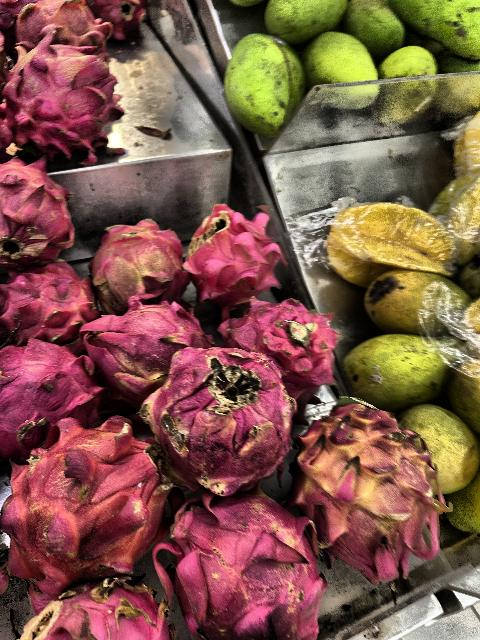buah-naga-belum-matang: (279, 396, 441, 580), (144, 346, 308, 492), (12, 428, 166, 580), (1, 44, 126, 152), (90, 298, 190, 386), (83, 215, 187, 297)
buah-naga-matang: (156, 489, 330, 639), (187, 193, 297, 301), (227, 299, 341, 403), (0, 332, 82, 442), (23, 582, 170, 640), (5, 261, 101, 347), (0, 160, 78, 260)
